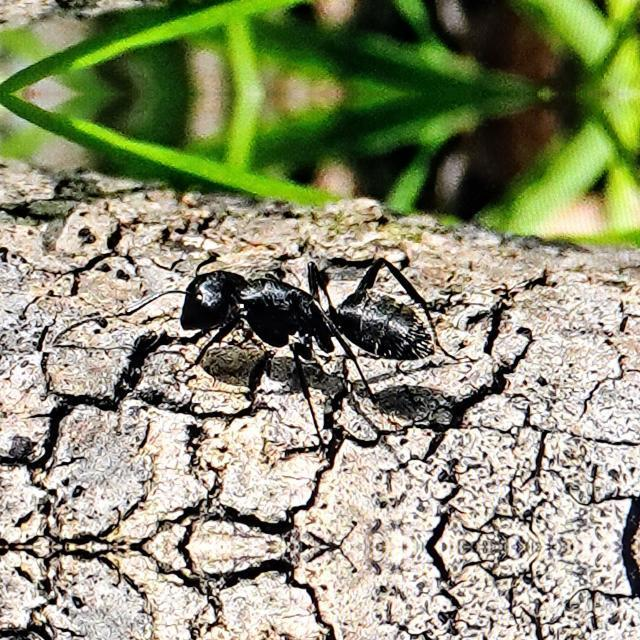Camponotus: (125, 225, 432, 420)
